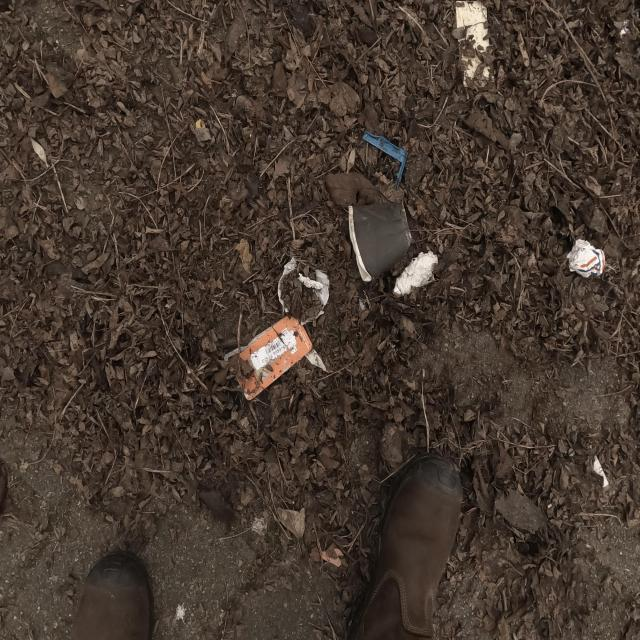Cup: (346, 200, 412, 283)
